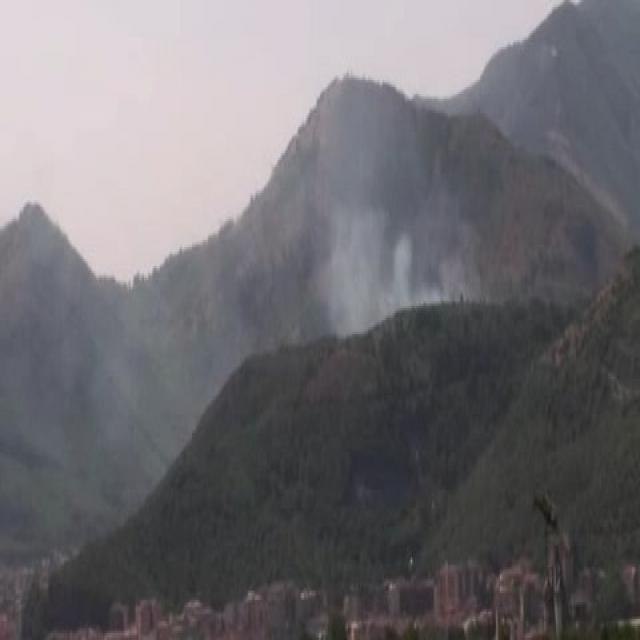smoke: (308, 153, 460, 335)
